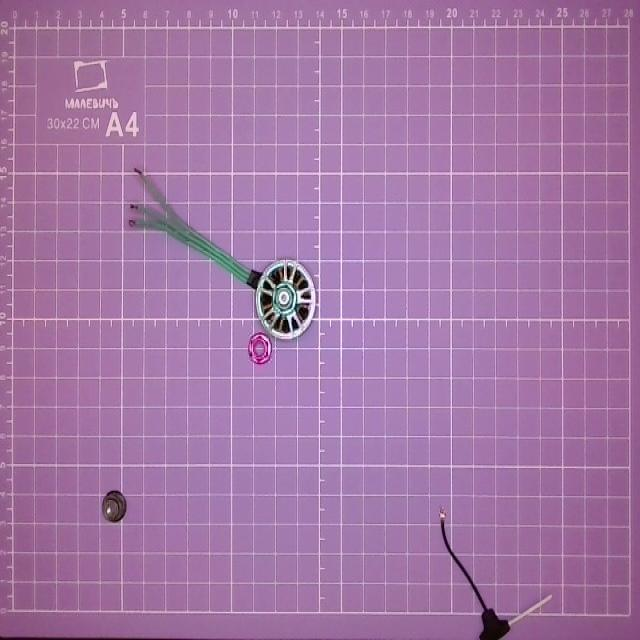antenna: (437, 506, 553, 640)
motor: (125, 166, 317, 341)
screw_M5: (98, 486, 130, 521), (244, 336, 274, 366)
